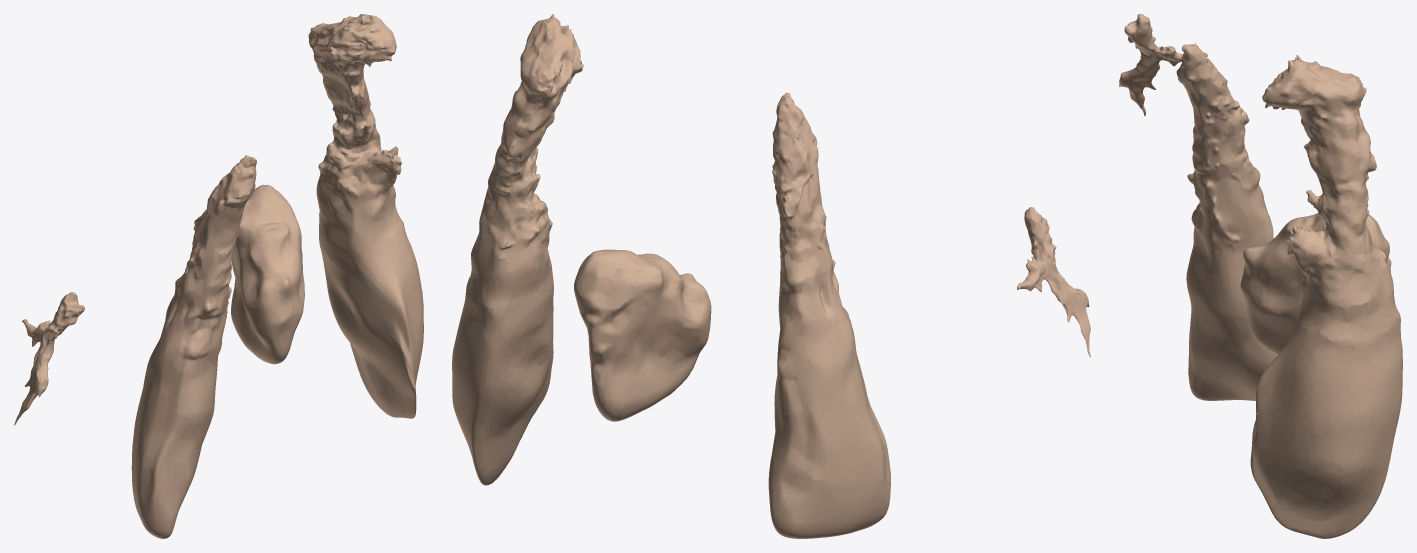
The model's file is nasa-pillars-of-creation.glb.
3 views of the same model, side by side, from view 1: azimuth 30°, elevation 25°; view 2: azimuth 150°, elevation 25°; view 3: azimuth 270°, elevation 25° (orthographic). The views are drawn at different scales.
Visible parts, largest first — view 1: Pillars of Creation; view 2: Pillars of Creation; view 3: Pillars of Creation.
Boxes of the visible parts, <box> form: Pillars of Creation: <box>14,14,423,538</box>; Pillars of Creation: <box>452,14,1090,538</box>; Pillars of Creation: <box>1119,14,1402,538</box>.
Bounding box in the file's own units: 84.62 × 71.61 × 39.17.
